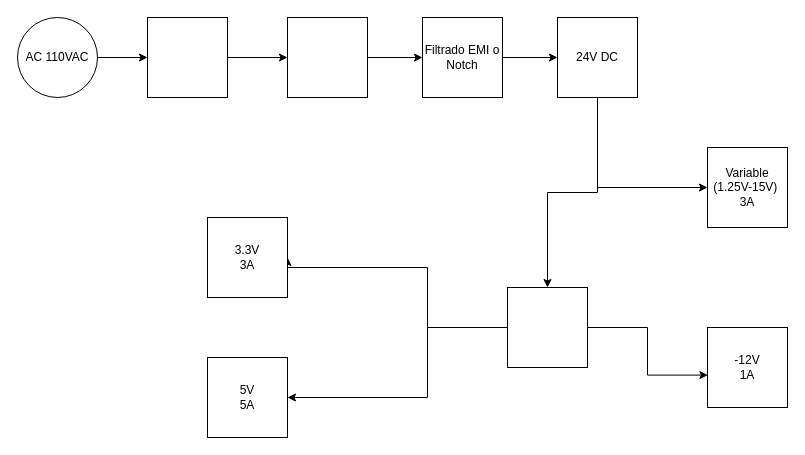
This 805x455 diagram has some shape labels left out. Each missing label, with the box of its shape:
12V 5A: (506, 286, 588, 368)
Rectificador: (286, 16, 368, 98)
Trafo 24V@300VA: (146, 16, 228, 98)
